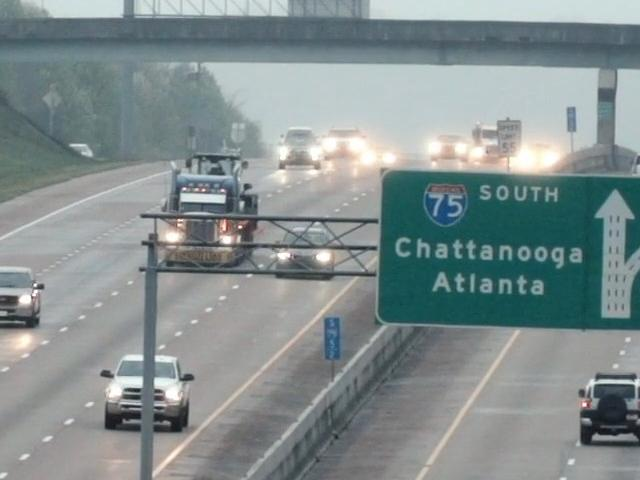car: (103, 340, 198, 420), (581, 365, 640, 433), (277, 210, 340, 270), (0, 263, 53, 328), (267, 124, 333, 175)
truck: (160, 138, 258, 273)
